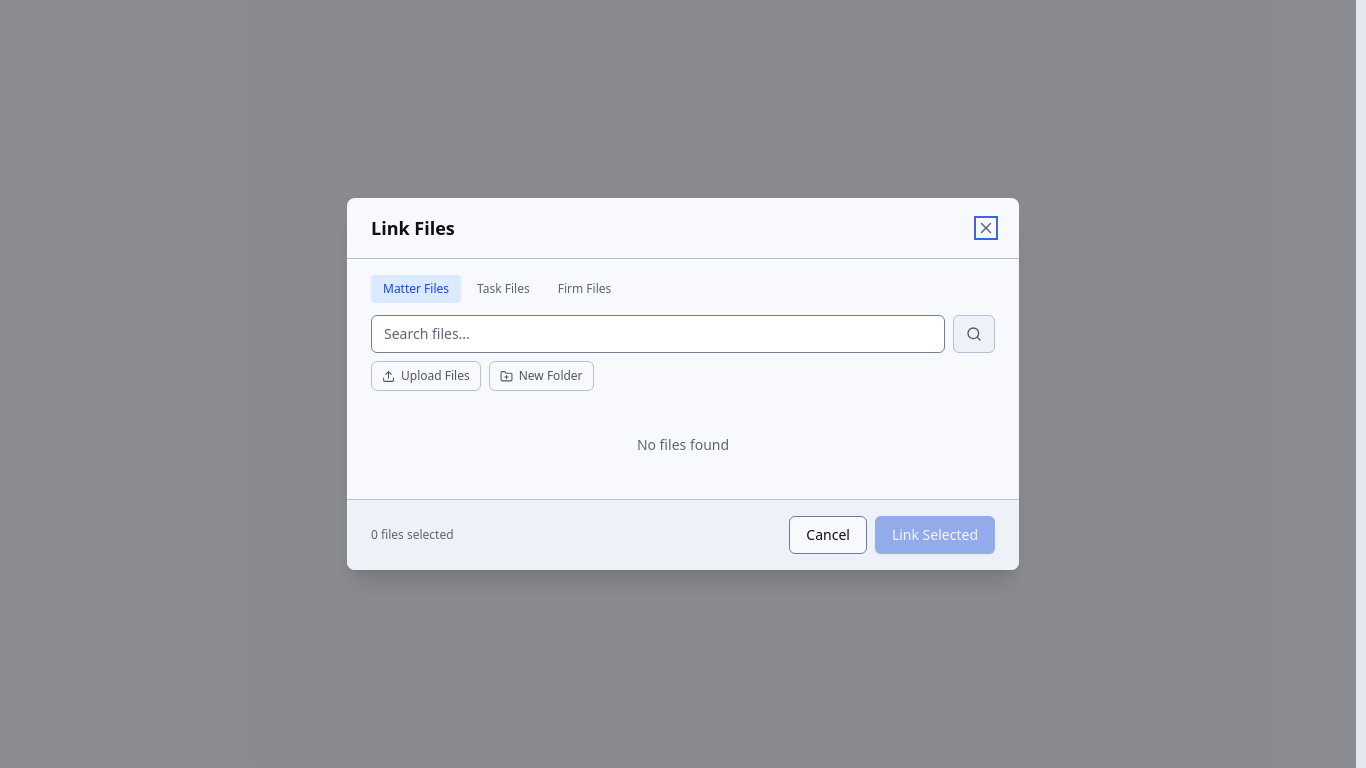
Test: FilePickerModal task list › distinguishes an empty search result from a matter with no tasks
Click the button "Task Files" at (503,289), box [465,275,542,303]
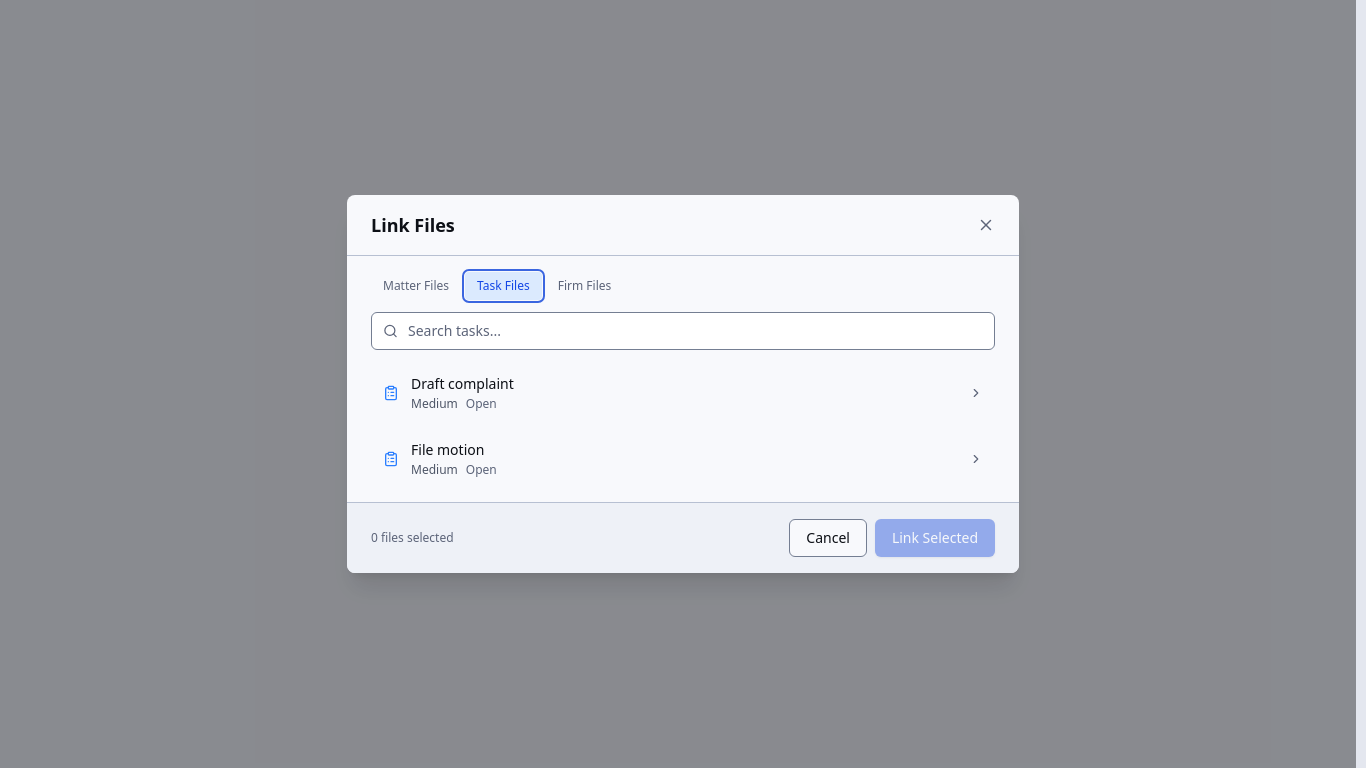
Type "zzzz" into the field with placeholder "Search tasks..." at (683,331), box [371,312,995,350]
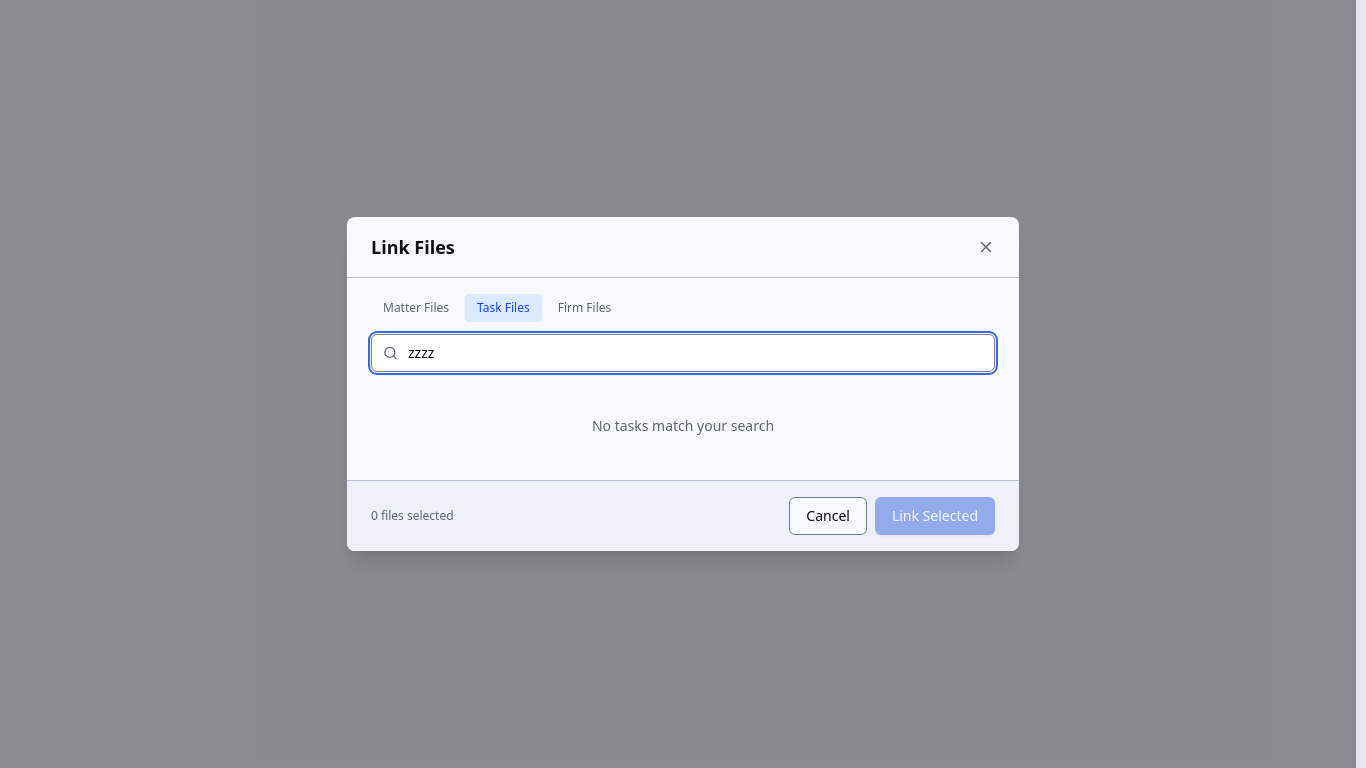
Expected: the text "No tasks match your search" is shown, [592,416,774,435]
